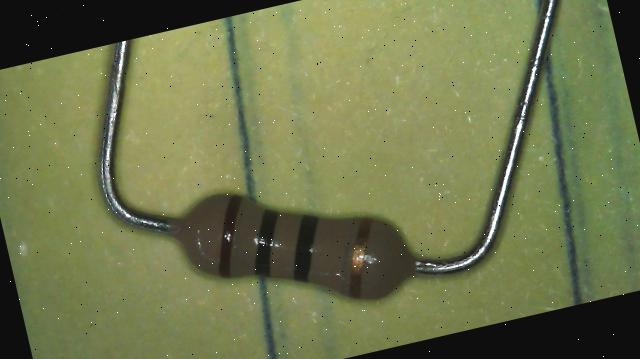black: (242, 209, 288, 280), (283, 214, 330, 281)
brown: (200, 204, 250, 279)
gold: (337, 214, 390, 292)
resistor: (154, 175, 434, 328)
